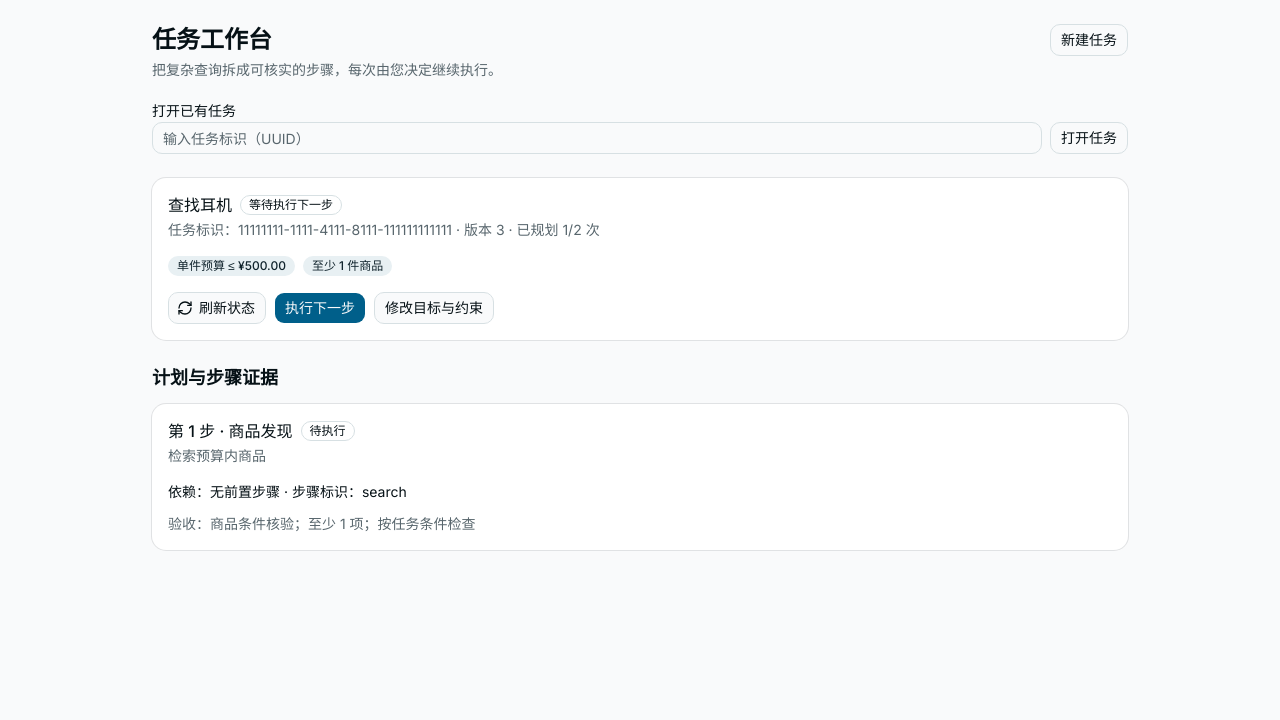
Test case: 任务工作台 › 409 读取最新版本而不自动重放执行
What coordinates should you click on to do the following:
click the button "执行下一步"
I would click on:
 (320, 308)
Its box is x1=274 y1=292 x2=366 y2=324.
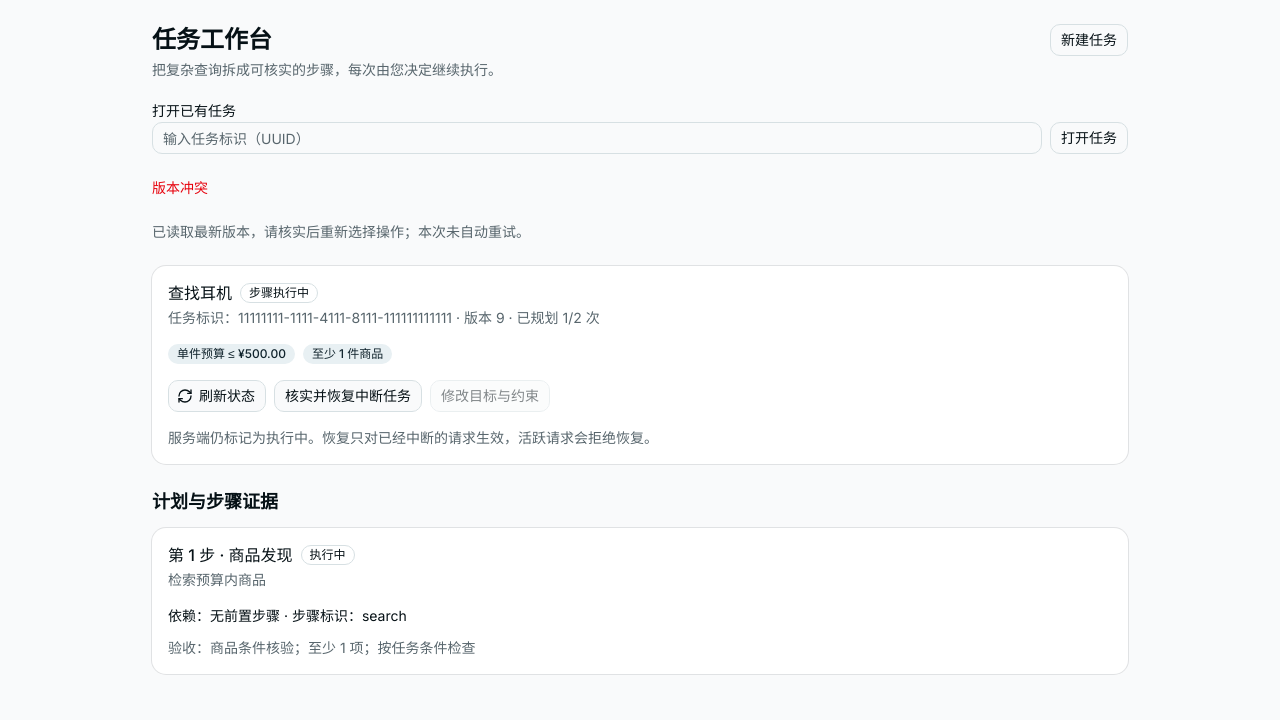
expect the text "已读取最新版本，请核实后重新选择操作；本次未自动重试。" is shown: met, box x1=152 y1=223 x2=530 y2=240
expect the text "任务标识：11111111-1111-4111-8111-111111111111 · 版本 9 · 已规划 1/2 次" is shown: met, box x1=168 y1=309 x2=600 y2=326
